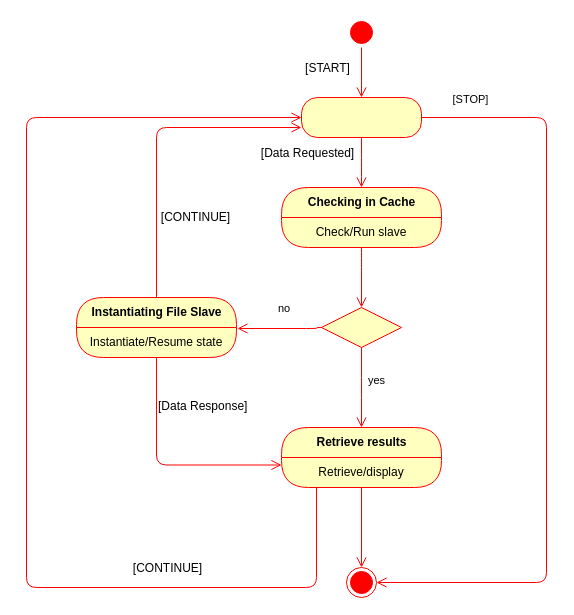
Image size: 574x615. Some labels were removed from this diagram. The centre of each missing label's shape, as x and y in pixels:
Exists in cache: the point at 361,327
Master server running: the point at 361,117
